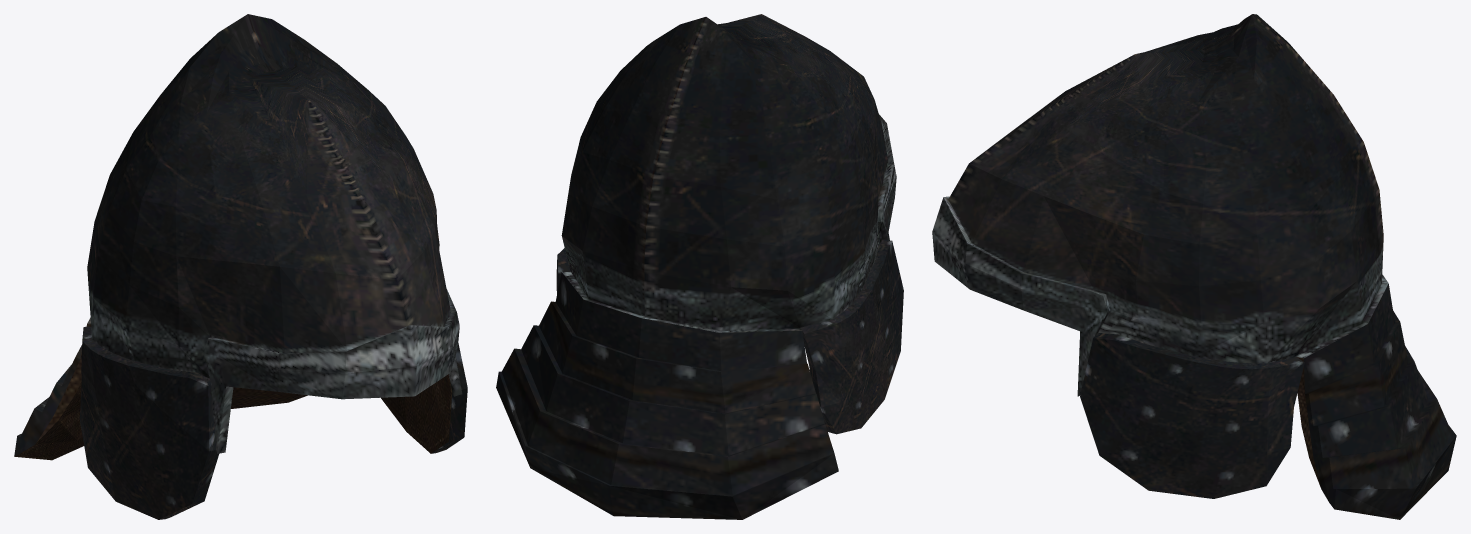
File: helm1.glb
3 views of the same model, side by side, from view 1: azimuth 30°, elevation 25°; view 2: azimuth 150°, elevation 25°; view 3: azimuth 270°, elevation 25° (orthographic). The views are drawn at different scales.
Visible parts, largest first — view 1: zengin; view 2: zengin; view 3: zengin.
Boxes of the visible parts, left/top/right/bottom form: zengin: left=14, top=14, right=467, bottom=519; zengin: left=496, top=14, right=903, bottom=519; zengin: left=932, top=14, right=1456, bottom=519.
Bounding box in the file's own units: 0.2928 × 0.3523 × 0.3666.
1 material, 1 textured.
